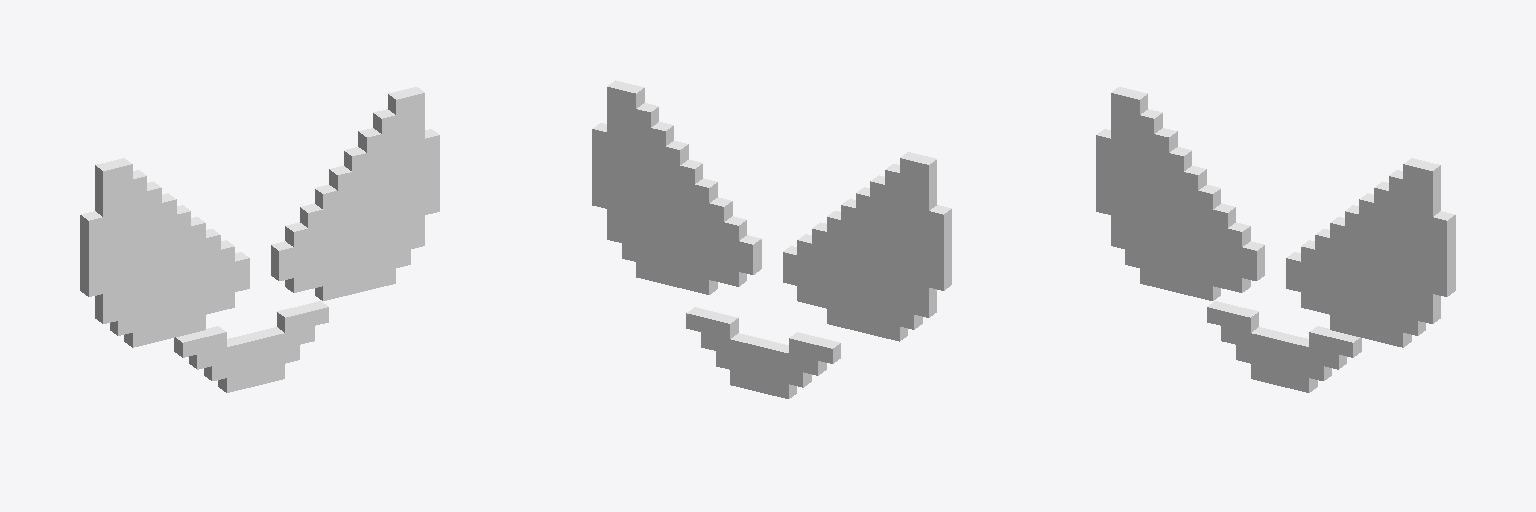
File: SL_WispEyes.obj
3 views of the same model, side by side, from view 1: azimuth 30°, elevation 25°; view 2: azimuth 150°, elevation 25°; view 3: azimuth 330°, elevation 25° (orthographic).
Bounding box in the file's own units: 24 × 17 × 2.